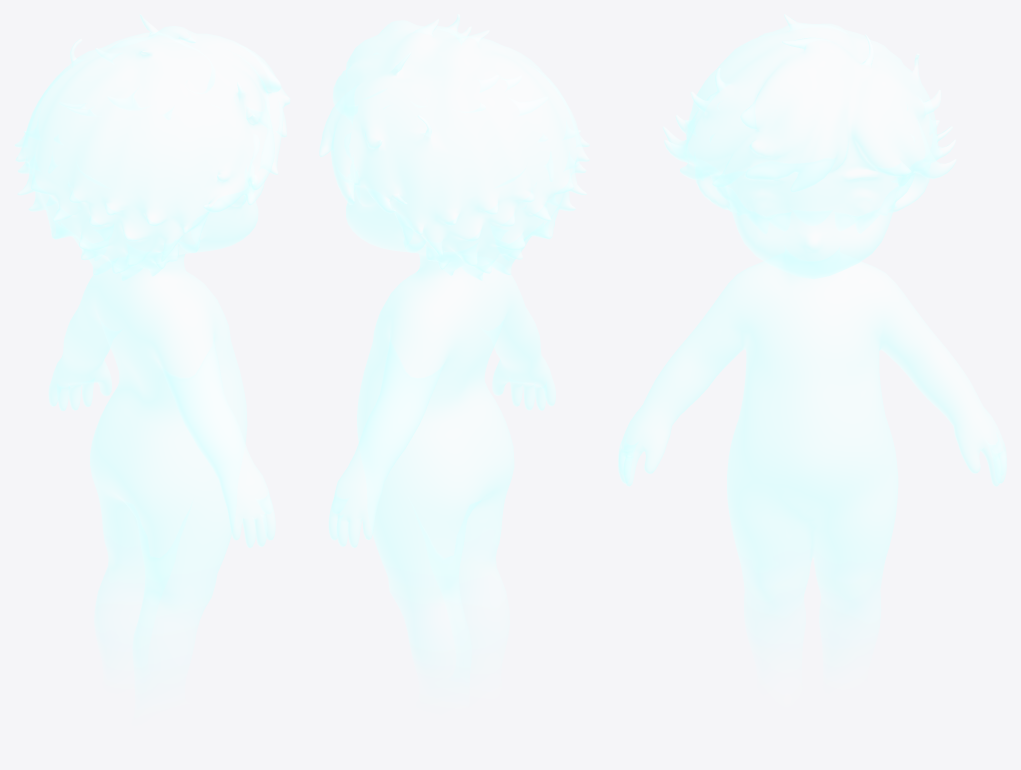
File: memory_ghost.glb
The picture shows the model from 3 angles, left to right: view 1: azimuth 30°, elevation 25°; view 2: azimuth 150°, elevation 25°; view 3: azimuth 270°, elevation 25°; orthographic projection.
Visible parts, largest first — view 1: tripo_node_35a9b570; view 2: tripo_node_35a9b570; view 3: tripo_node_35a9b570.
Part boxes in pixels (x1,y1,x2,y2): tripo_node_35a9b570: [14, 14, 290, 694]; tripo_node_35a9b570: [319, 14, 589, 694]; tripo_node_35a9b570: [618, 14, 1006, 672].
Bounding box in the file's own units: 35.23 × 99.68 × 49.74.
1 material, 1 textured.
